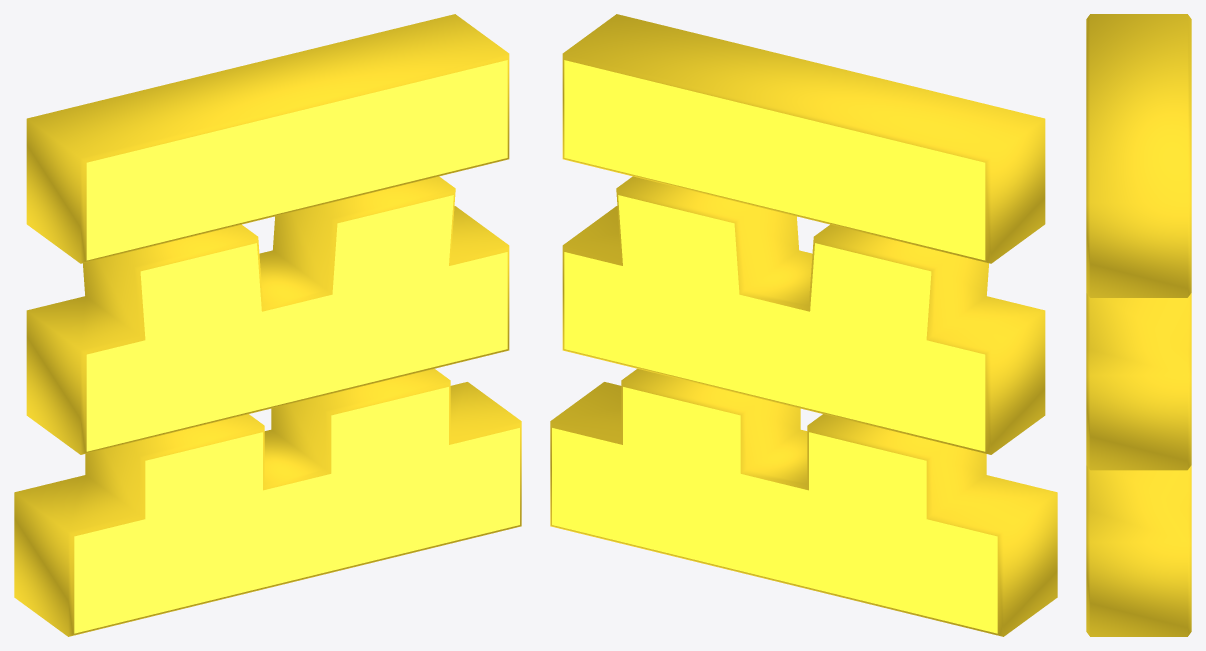
3 views of the same model, side by side, from view 1: azimuth 30°, elevation 25°; view 2: azimuth 150°, elevation 25°; view 3: azimuth 270°, elevation 25° (orthographic). The views are drawn at different scales.
Visible parts, largest first — view 1: glyph; view 2: glyph; view 3: glyph.
Boxes of the visible parts, x1=… form: glyph: x1=14, y1=14, x2=521, y2=636; glyph: x1=550, y1=14, x2=1057, y2=636; glyph: x1=1086, y1=14, x2=1191, y2=636.
Bounding box in the file's own units: 0.0726 × 0.0728 × 0.0162.
